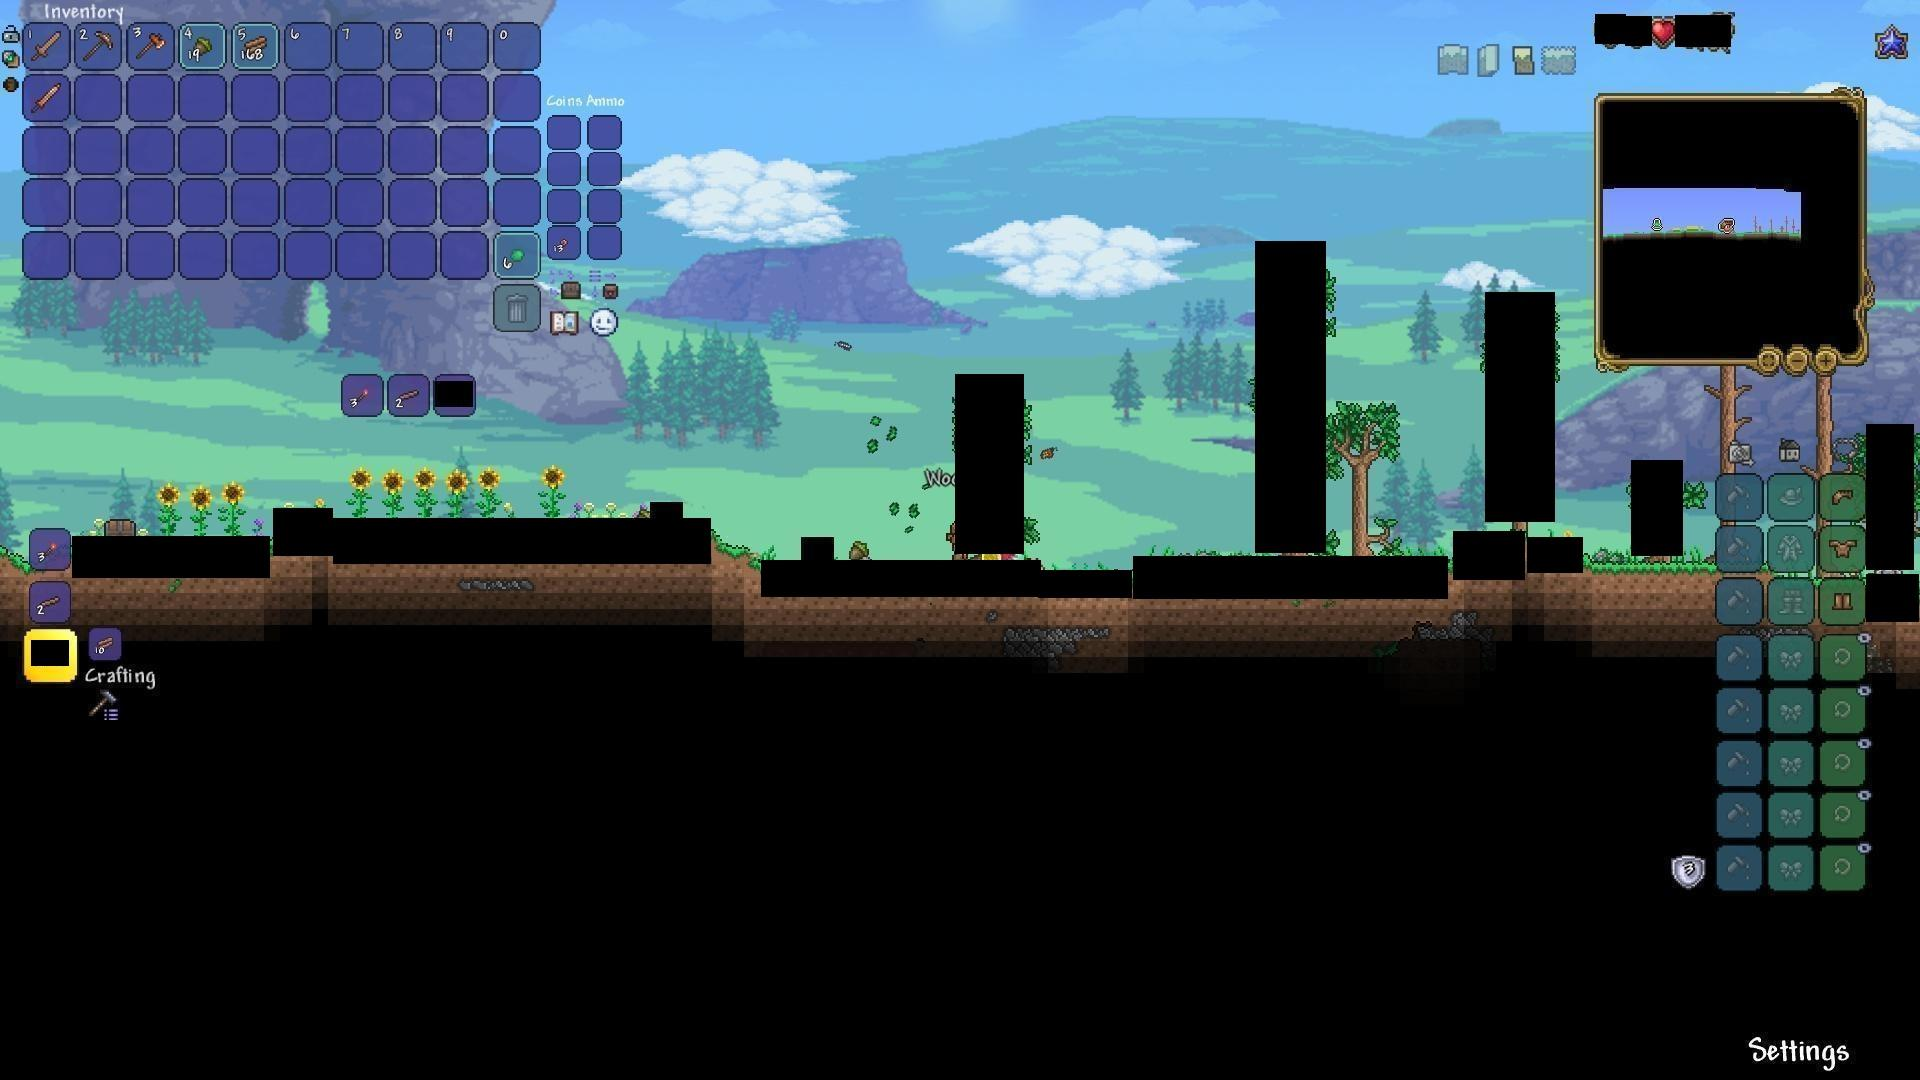breastplate: (1830, 537, 1859, 559)
dirt: (1584, 558, 1720, 592), (715, 535, 762, 587), (3, 537, 25, 584)
heart: (1648, 17, 1676, 46)
helmet: (1829, 483, 1861, 512)
legs: (1832, 588, 1855, 616)
tree: (1323, 389, 1396, 553)
wood: (88, 629, 120, 659), (243, 36, 269, 59)
